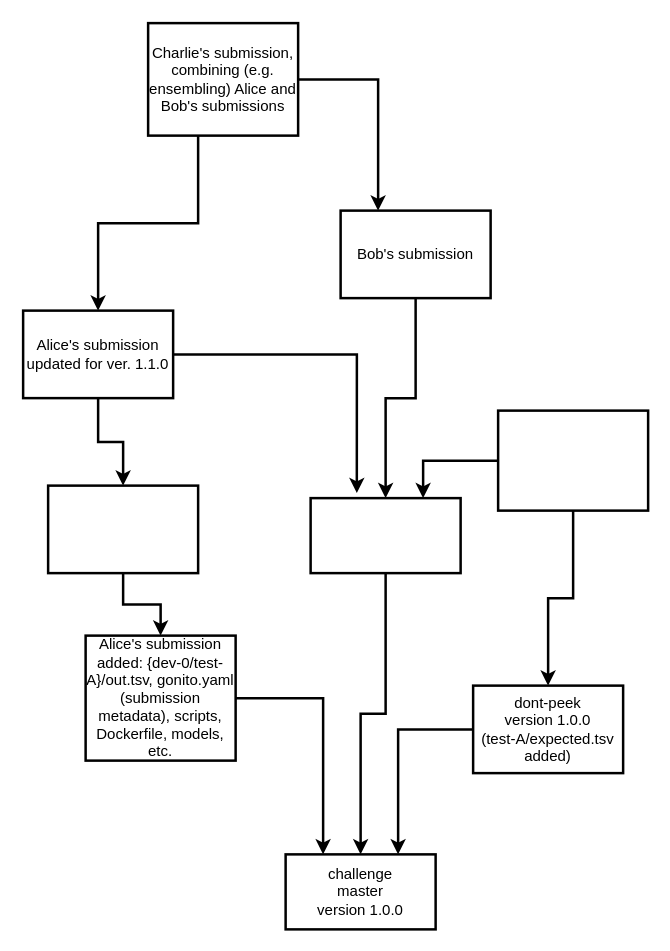
The diagram is 670 pixels wide and 951 high, and some of its shapes have lost their labels. The shapes that lost their labels are listed below. From the top down, each one's box as (x1, y1, x2, y2) in pixels, then its label:
(496, 409, 649, 511): dont-peek version 1.1.0 (merge of hidden data v 1.0 and update to v 1.1)
(46, 484, 199, 574): Alice's improved submission
(309, 496, 461, 574): challenge version 1.1.0
